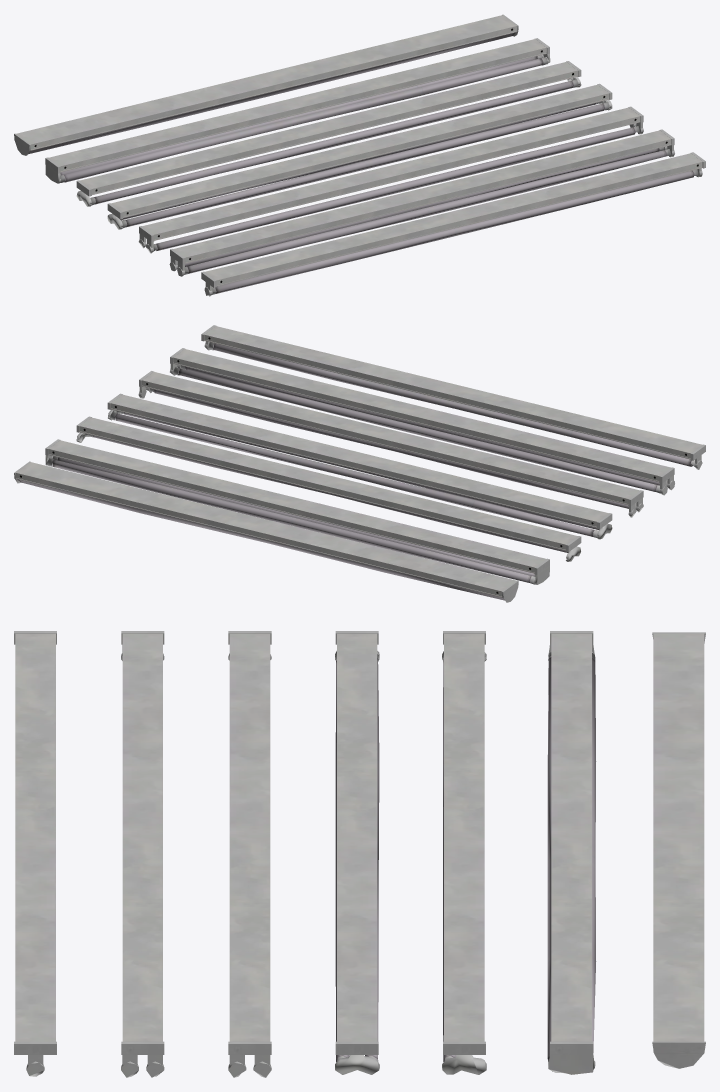
Rendered from mounted_fluorescent_lights.glb.
3 views of the same model, one above another, from view 1: azimuth 30°, elevation 25°; view 2: azimuth 150°, elevation 25°; view 3: azimuth 270°, elevation 25° (orthographic). The views are drawn at different scales.
Visible parts, largest first — view 1: mounted_fluorescent_lights_b, mounted_fluorescent_lights_f, mounted_fluorescent_lights_d, mounted_fluorescent_lights_c, mounted_fluorescent_lights_e, mounted_fluorescent_lights_a, mounted_fluorescent_lights_g; view 2: mounted_fluorescent_lights_f, mounted_fluorescent_lights_b, mounted_fluorescent_lights_d, mounted_fluorescent_lights_a, mounted_fluorescent_lights_g, mounted_fluorescent_lights_c, mounted_fluorescent_lights_e; view 3: mounted_fluorescent_lights_g, mounted_fluorescent_lights_f, mounted_fluorescent_lights_d, mounted_fluorescent_lights_e, mounted_fluorescent_lights_c, mounted_fluorescent_lights_b, mounted_fluorescent_lights_a.
Boxes of the visible parts, <box> form: mounted_fluorescent_lights_b: <box>169,129,674,276</box>; mounted_fluorescent_lights_f: <box>45,38,550,183</box>; mounted_fluorescent_lights_d: <box>107,83,612,229</box>; mounted_fluorescent_lights_c: <box>138,106,643,253</box>; mounted_fluorescent_lights_e: <box>76,61,581,206</box>; mounted_fluorescent_lights_a: <box>201,152,705,296</box>; mounted_fluorescent_lights_g: <box>14,14,518,155</box>; mounted_fluorescent_lights_f: <box>45,439,549,584</box>; mounted_fluorescent_lights_b: <box>170,348,674,495</box>; mounted_fluorescent_lights_d: <box>107,393,612,539</box>; mounted_fluorescent_lights_a: <box>201,325,705,469</box>; mounted_fluorescent_lights_g: <box>14,461,518,602</box>; mounted_fluorescent_lights_c: <box>138,371,643,517</box>; mounted_fluorescent_lights_e: <box>76,416,581,561</box>; mounted_fluorescent_lights_g: <box>652,632,705,1068</box>; mounted_fluorescent_lights_f: <box>547,631,596,1074</box>; mounted_fluorescent_lights_d: <box>335,631,379,1074</box>; mounted_fluorescent_lights_e: <box>442,631,486,1074</box>; mounted_fluorescent_lights_c: <box>228,631,271,1077</box>; mounted_fluorescent_lights_b: <box>121,631,164,1077</box>; mounted_fluorescent_lights_a: <box>14,631,56,1076</box>.
Bounding box in the file's own units: 0.9122 × 0.0352 × 0.6454.
Materials: 2 (2 with a texture image).
